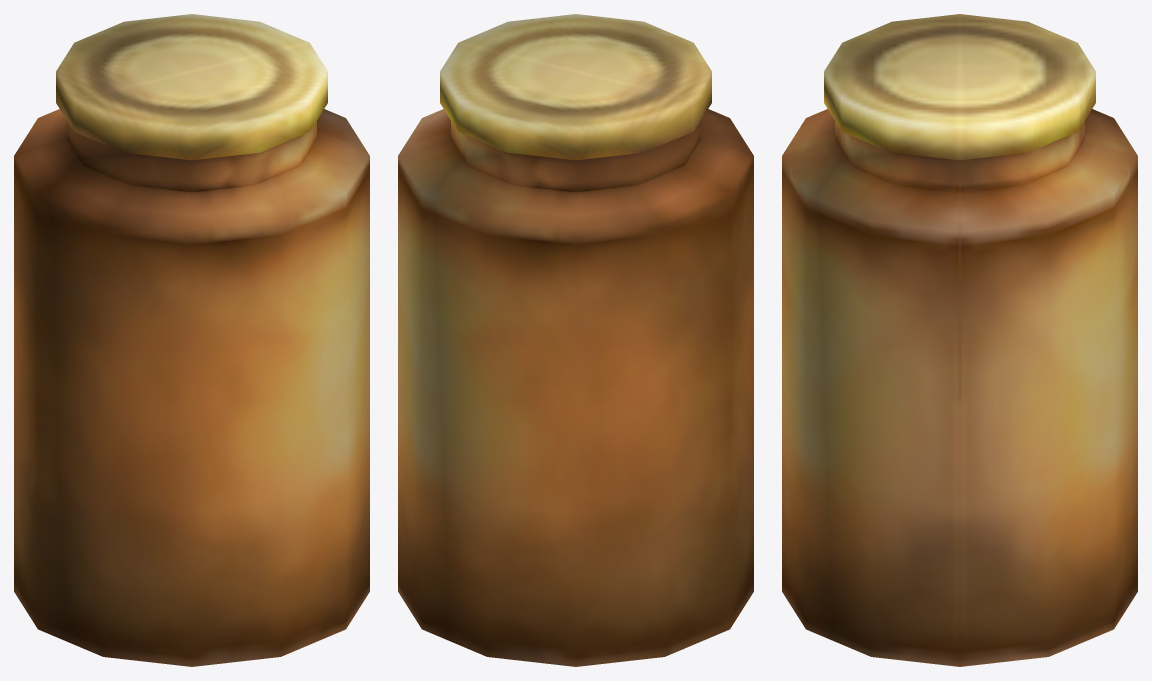
The model's file is SM_bank_03.gltf.
3 renders of one model, left to right at view 1: azimuth 30°, elevation 25°; view 2: azimuth 150°, elevation 25°; view 3: azimuth 270°, elevation 25°, orthographic.
Visible parts, largest first — view 1: SM_bank_03; view 2: SM_bank_03; view 3: SM_bank_03.
Part boxes in pixels (x1,y1,x2,y2): SM_bank_03: (14,14,369,666); SM_bank_03: (398,14,753,666); SM_bank_03: (782,14,1137,666).
Bounding box in the file's own units: 0.137 × 0.2275 × 0.137.
1 material, 1 textured.
